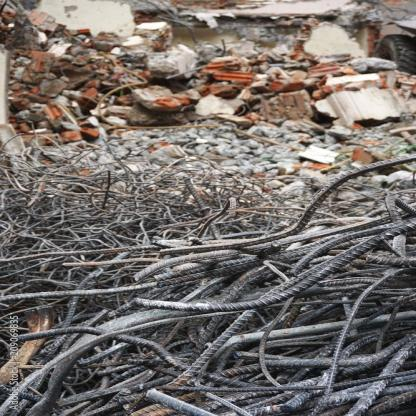rebar: (1, 136, 415, 414)
